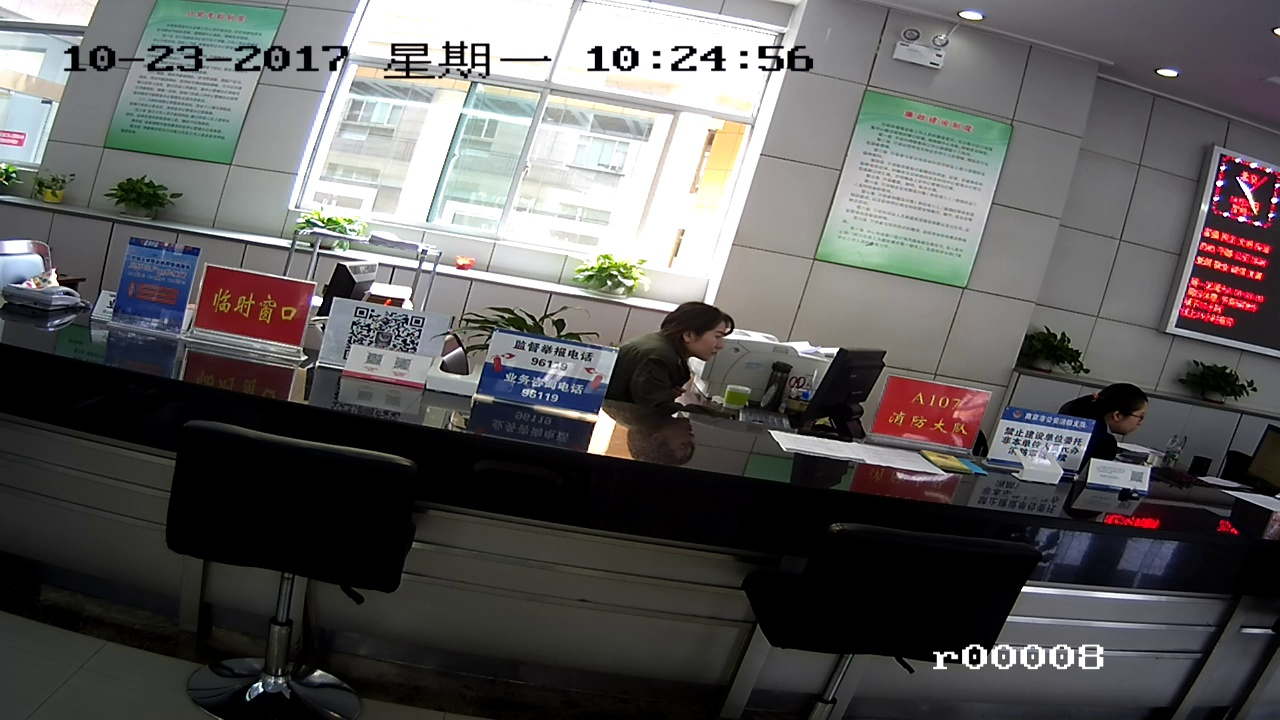billboard: (840, 108, 995, 292), (139, 16, 248, 155), (480, 338, 620, 414), (201, 275, 297, 337)
chair: (160, 424, 411, 713), (734, 515, 1042, 714)
person: (645, 301, 728, 372), (1085, 374, 1155, 457)
pot: (1186, 359, 1252, 411), (1021, 321, 1078, 364)
